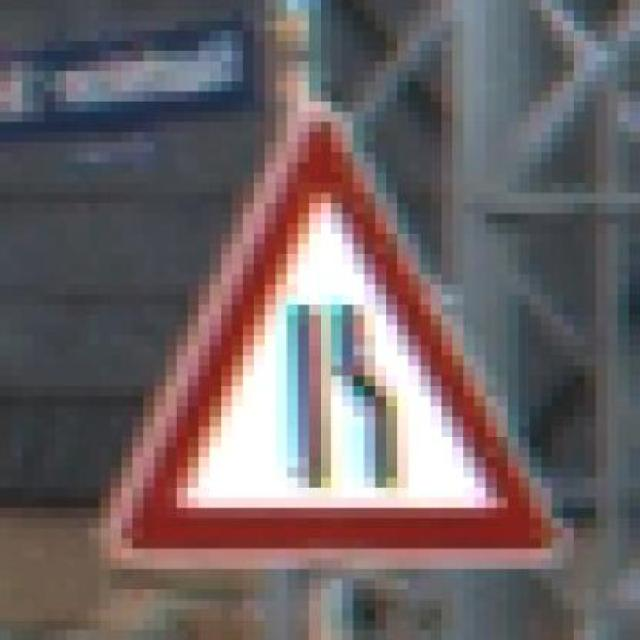-Road narrows on right: (66, 100, 585, 557)
